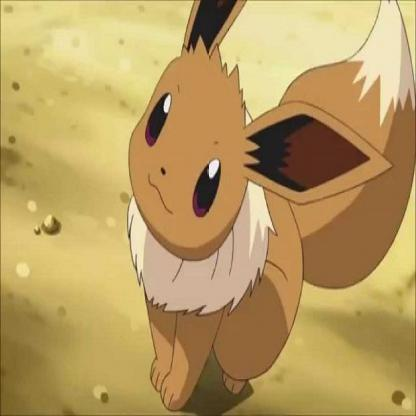Eevee: (121, 1, 416, 416)
